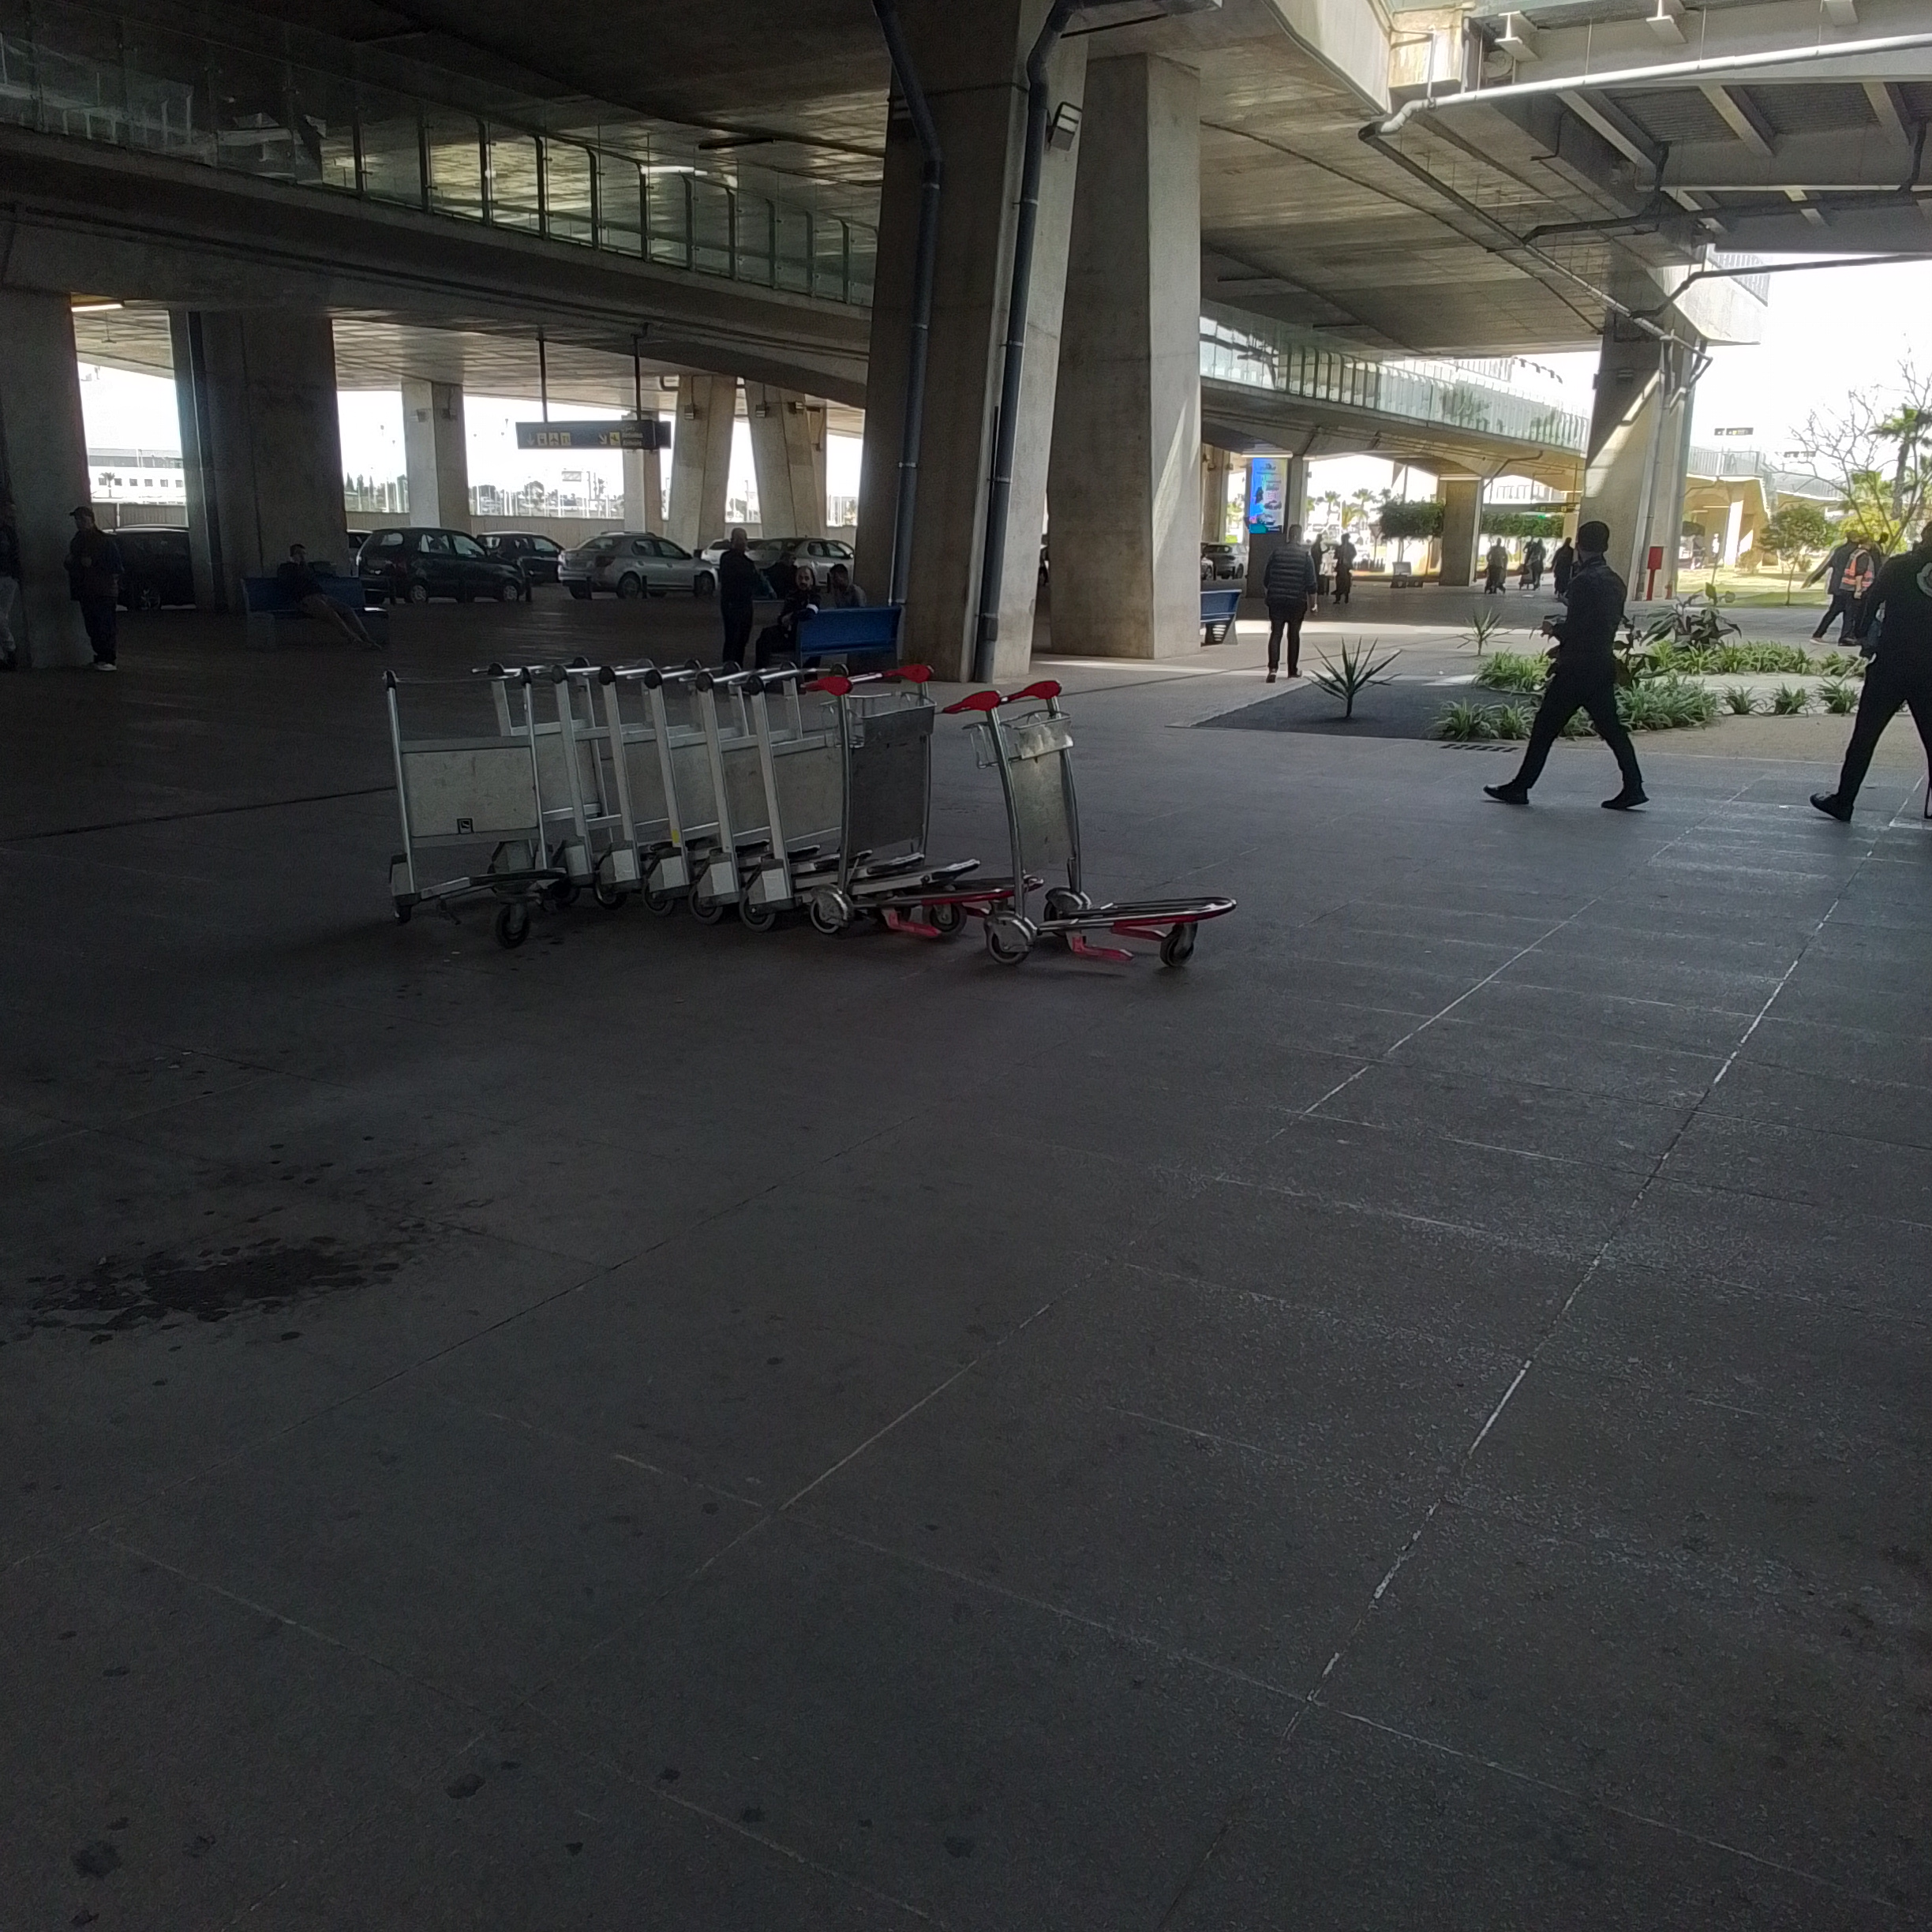airport-trolley: (941, 671, 1238, 991), (359, 667, 582, 952), (819, 653, 982, 925), (738, 639, 878, 918), (483, 640, 621, 915), (570, 639, 644, 924), (630, 637, 702, 925), (685, 648, 755, 927)
